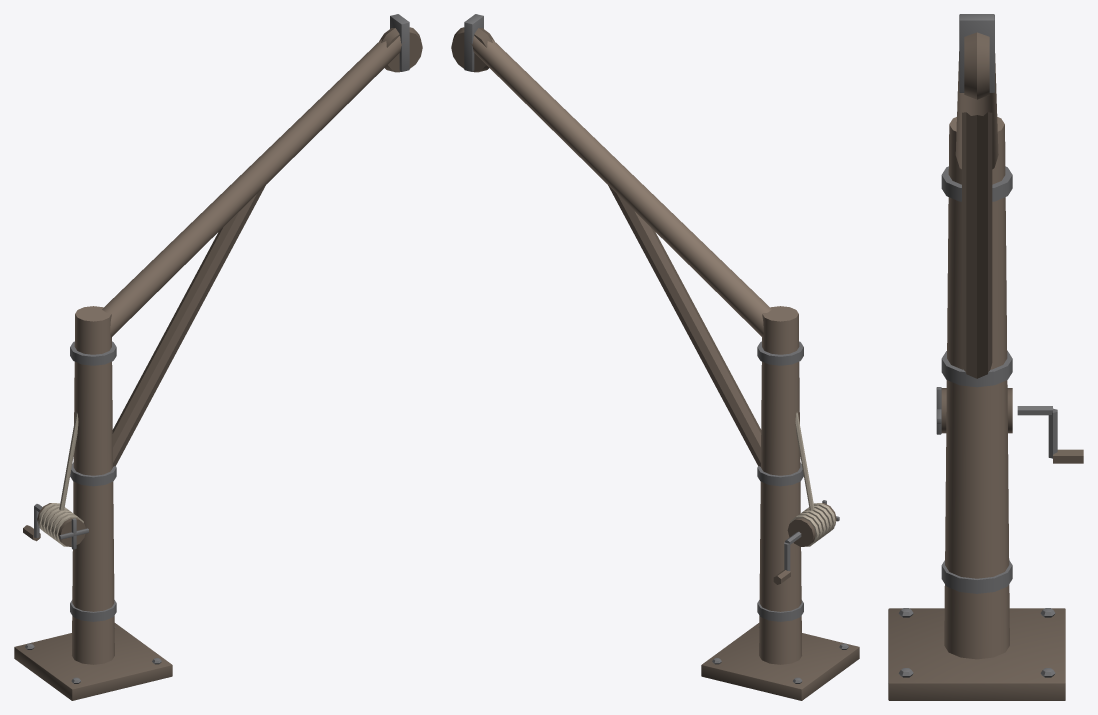
The model's file is crane.gltf.
3 views of the same model, side by side, from view 1: azimuth 30°, elevation 25°; view 2: azimuth 150°, elevation 25°; view 3: azimuth 270°, elevation 25° (orthographic). The views are drawn at different scales.
Visible parts, largest first — view 1: Body, Winch; view 2: Body, Winch; view 3: Body, Winch.
Part boxes in pixels (box(x1,y1,x2,y2)): Body: box(14, 14, 422, 700); Winch: box(23, 503, 88, 549); Body: box(451, 14, 859, 700); Winch: box(773, 500, 839, 584); Body: box(888, 14, 1065, 700); Winch: box(936, 387, 1083, 463).
Size of the model in its own units: 2.63 by 3.81 by 0.77.
